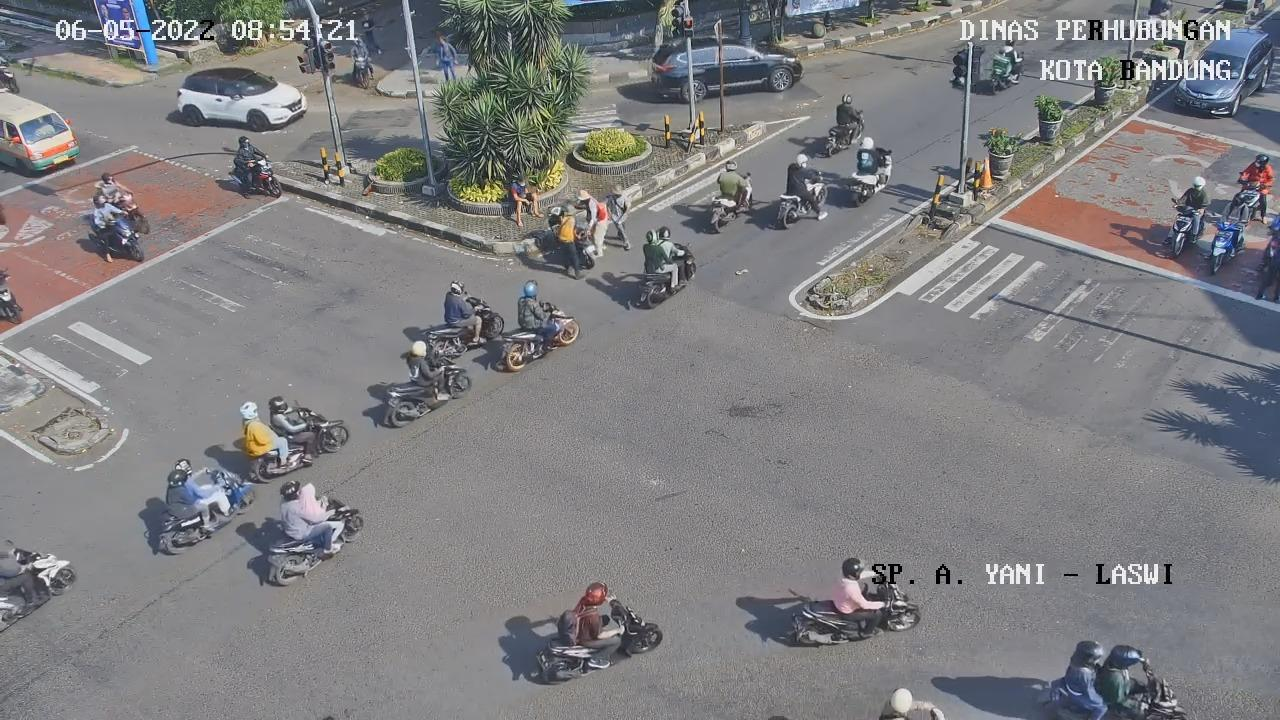accident: (509, 174, 545, 228)
